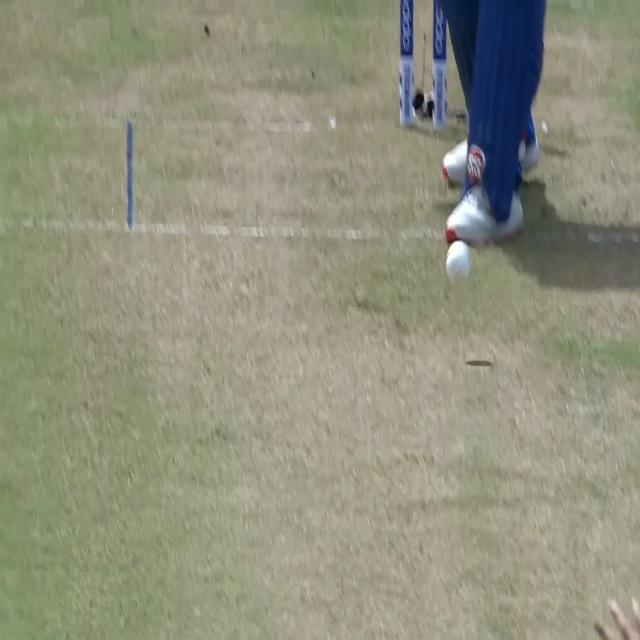ball: (440, 234, 478, 296)
